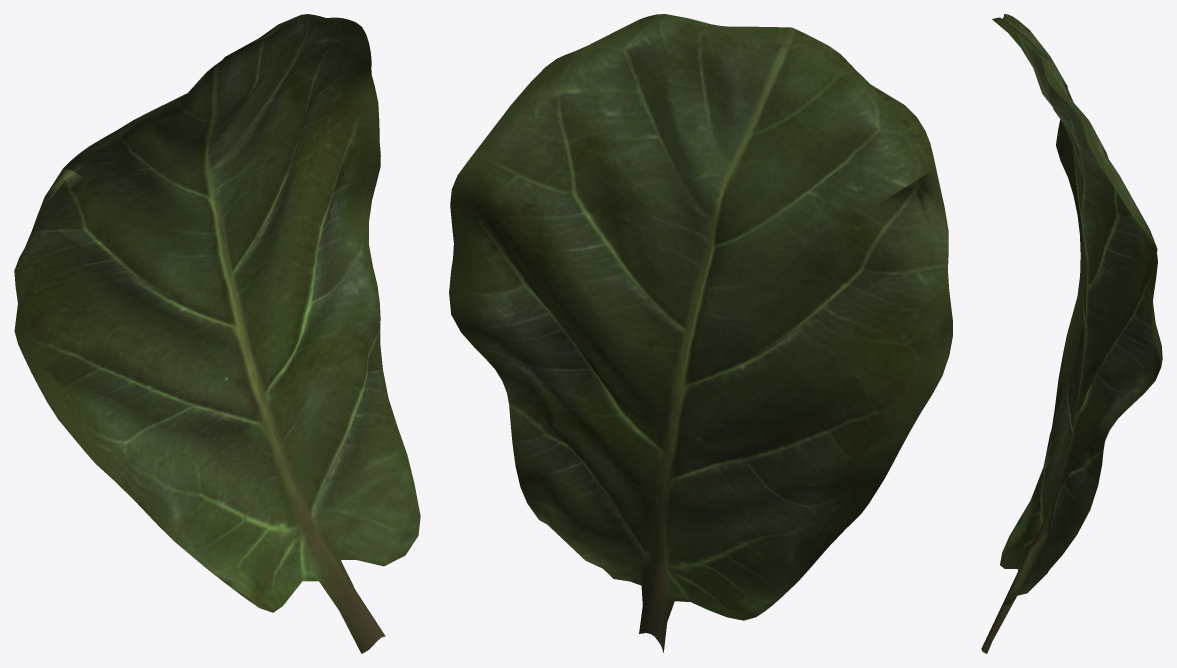
3 renders of one model, left to right at view 1: azimuth 30°, elevation 25°; view 2: azimuth 150°, elevation 25°; view 3: azimuth 270°, elevation 25°, orthographic. The views are drawn at different scales.
Visible parts, largest first — view 1: G-Plane209 68% 68% 68% 68%.015; view 2: G-Plane209 68% 68% 68% 68%.015; view 3: G-Plane209 68% 68% 68% 68%.015.
Boxes of the visible parts, box(x1,y1,x2,y2) form: G-Plane209 68% 68% 68% 68%.015: box(14, 14, 420, 653); G-Plane209 68% 68% 68% 68%.015: box(449, 14, 952, 652); G-Plane209 68% 68% 68% 68%.015: box(981, 14, 1162, 653).
Size of the model in its own units: 0.8549 by 1.23 by 0.3472.
Materials: 1 (1 with a texture image).
